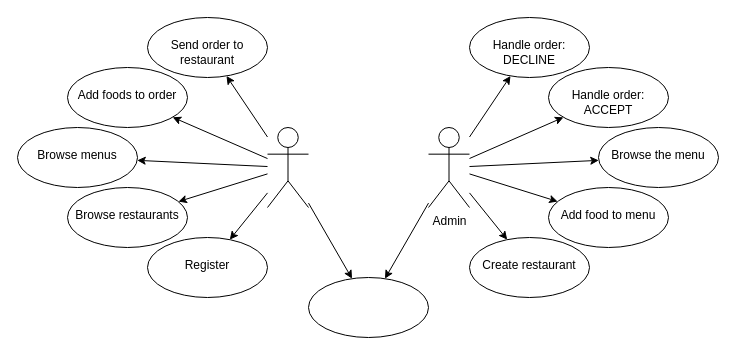
Image size: 736x355. Some labels were removed from this diagram. The shapes that lost their labels are listed below. From the top down, each one's box as (x1, y1, x2, y2) in pixels, then its label:
(266, 126, 308, 208): User
(308, 276, 428, 338): Login
